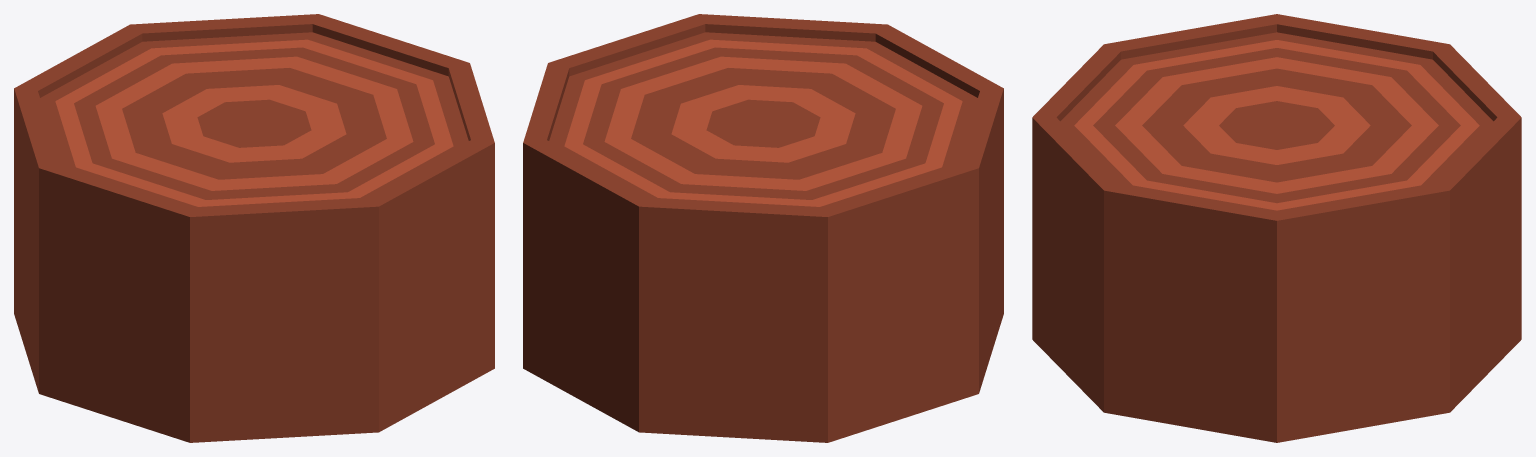
The model's file is Trunk.fbx.
The picture shows the model from 3 angles, left to right: view 1: azimuth 30°, elevation 25°; view 2: azimuth 150°, elevation 25°; view 3: azimuth 270°, elevation 25°; orthographic projection.
Visible parts, largest first — view 1: Cylinder; view 2: Cylinder; view 3: Cylinder.
Boxes of the visible parts, x1,y1,x2,y2 form: Cylinder: (14, 14, 494, 442); Cylinder: (523, 14, 1003, 442); Cylinder: (1032, 14, 1521, 442).
Bounding box in the file's own units: 122 × 60.93 × 122.
